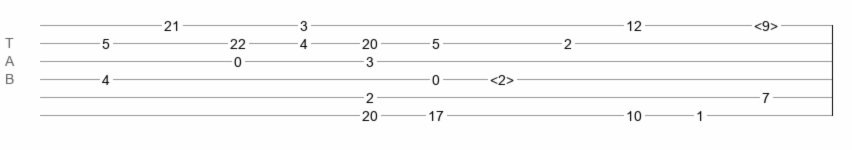0: (234, 54, 242, 64), (432, 72, 440, 82)
1: (696, 108, 704, 118)
10: (626, 108, 642, 118)
12: (626, 18, 642, 28)
17: (428, 108, 444, 118)
2: (366, 90, 374, 100), (564, 36, 572, 46)
20: (362, 36, 378, 46), (362, 108, 378, 118)
21: (164, 18, 180, 28)
22: (230, 36, 246, 46)
3: (300, 18, 308, 28), (366, 54, 374, 64)
4: (102, 72, 110, 82), (300, 36, 308, 46)
5: (102, 36, 110, 46), (432, 36, 440, 46)
7: (762, 90, 770, 100)
harmonic: (490, 72, 514, 82), (754, 18, 778, 28)
